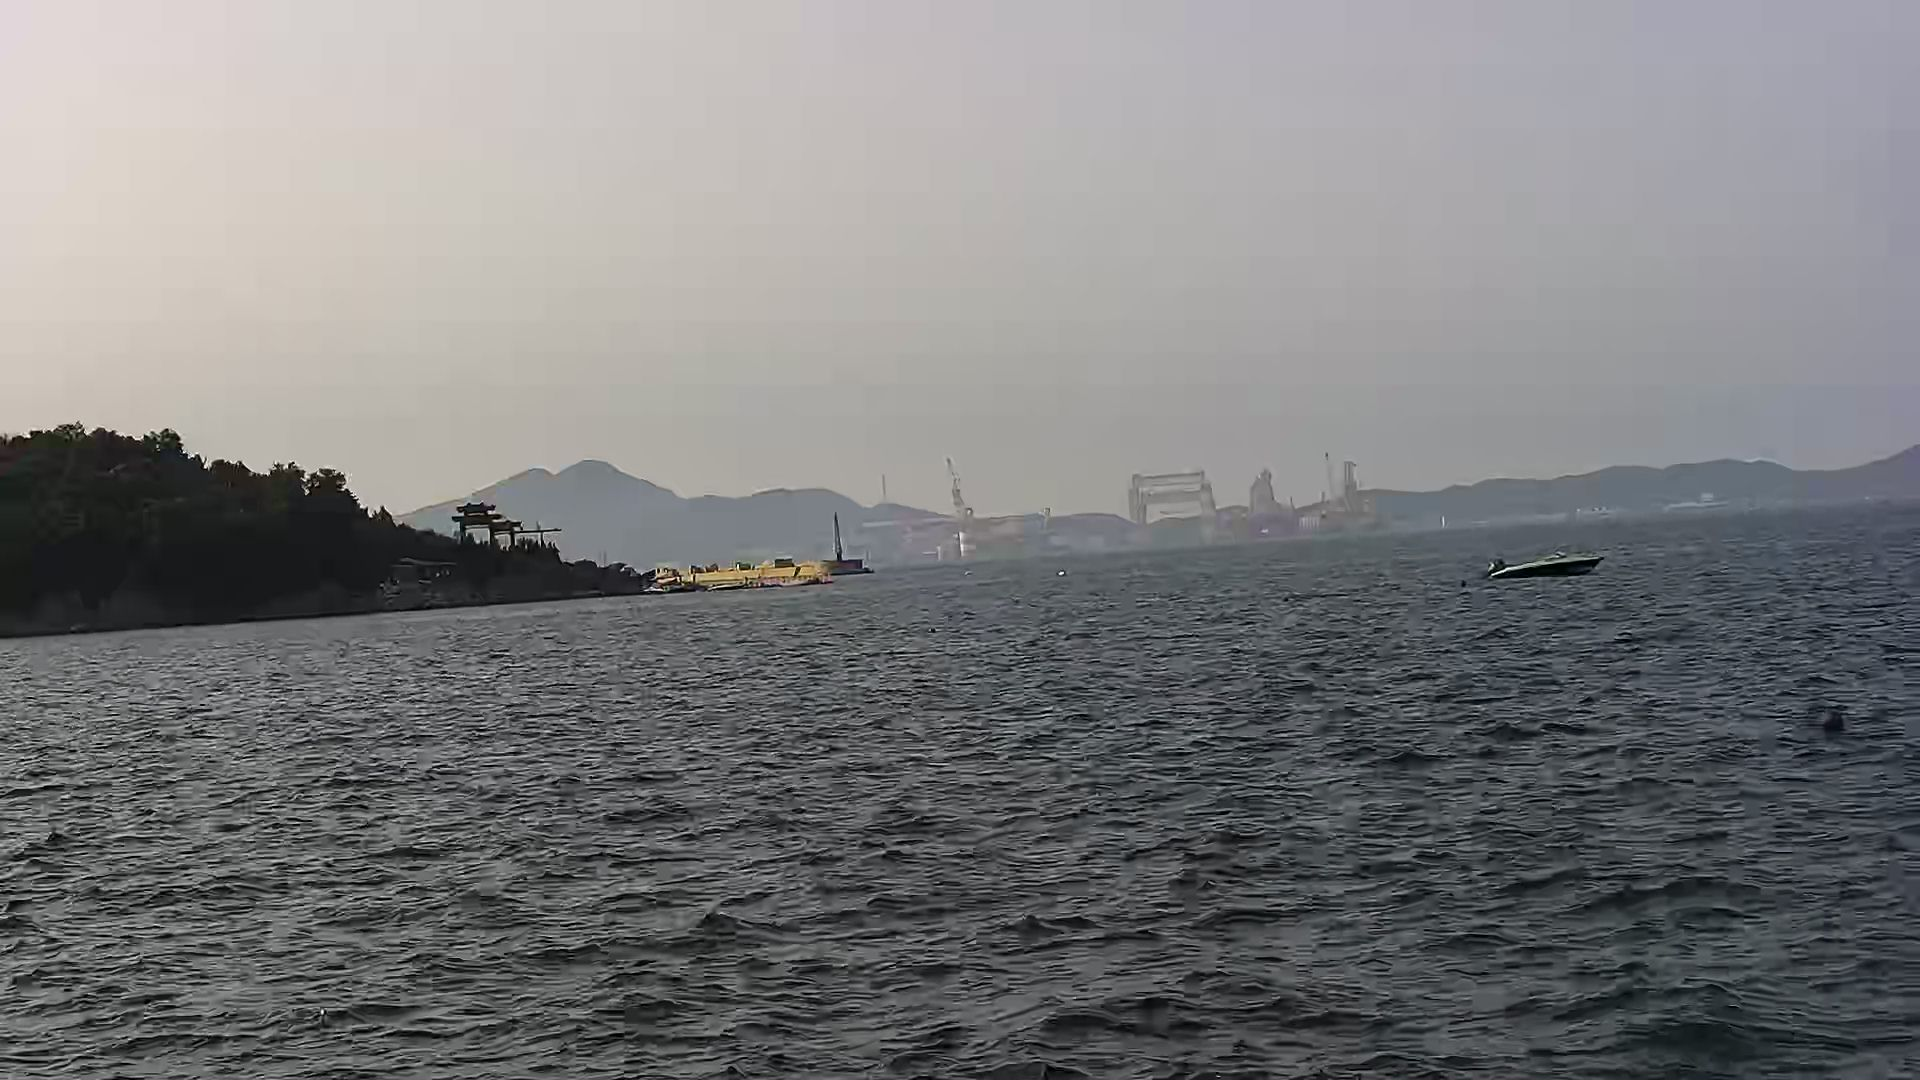boat: (1480, 535, 1605, 583)
harbor: (649, 510, 881, 593)
